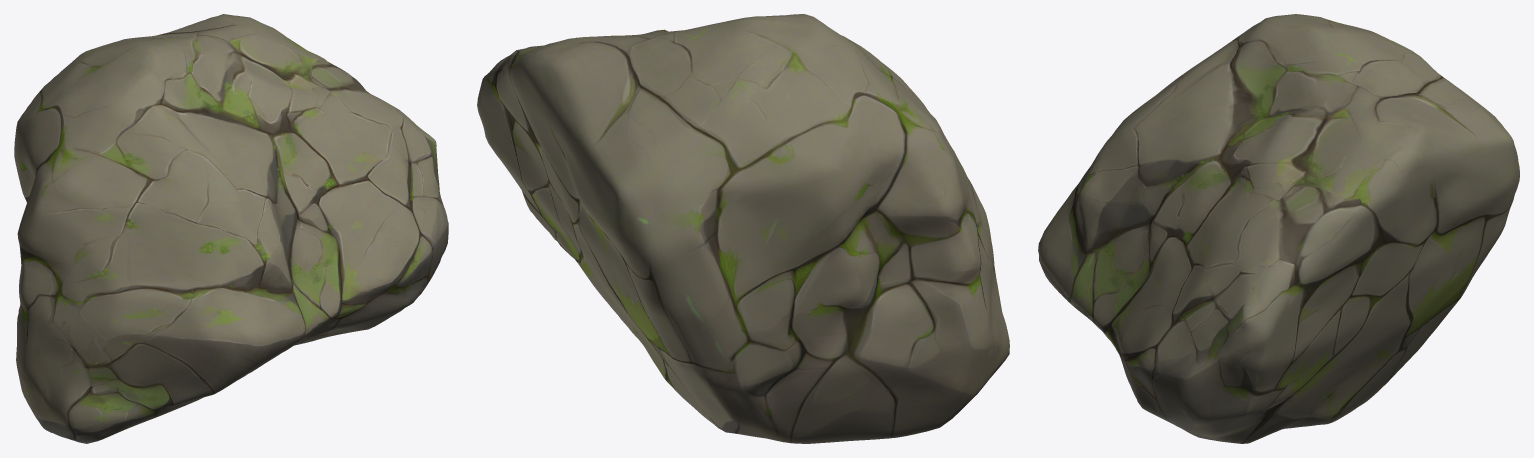
Rendered from Create_a_low_poly_sty_0519064307_texture.fbx.
3 renders of one model, left to right at view 1: azimuth 30°, elevation 25°; view 2: azimuth 150°, elevation 25°; view 3: azimuth 270°, elevation 25°, orthographic. The views are drawn at different scales.
Parts seen in each view (by area): view 1: input; view 2: input; view 3: input.
Boxes of the visible parts, x1,y1,x2,y2 form: input: (14,14,448,443); input: (477,14,1009,443); input: (1038,14,1519,443).
Bounding box in the file's own units: 199 × 157 × 176.
1 material, 1 textured.
